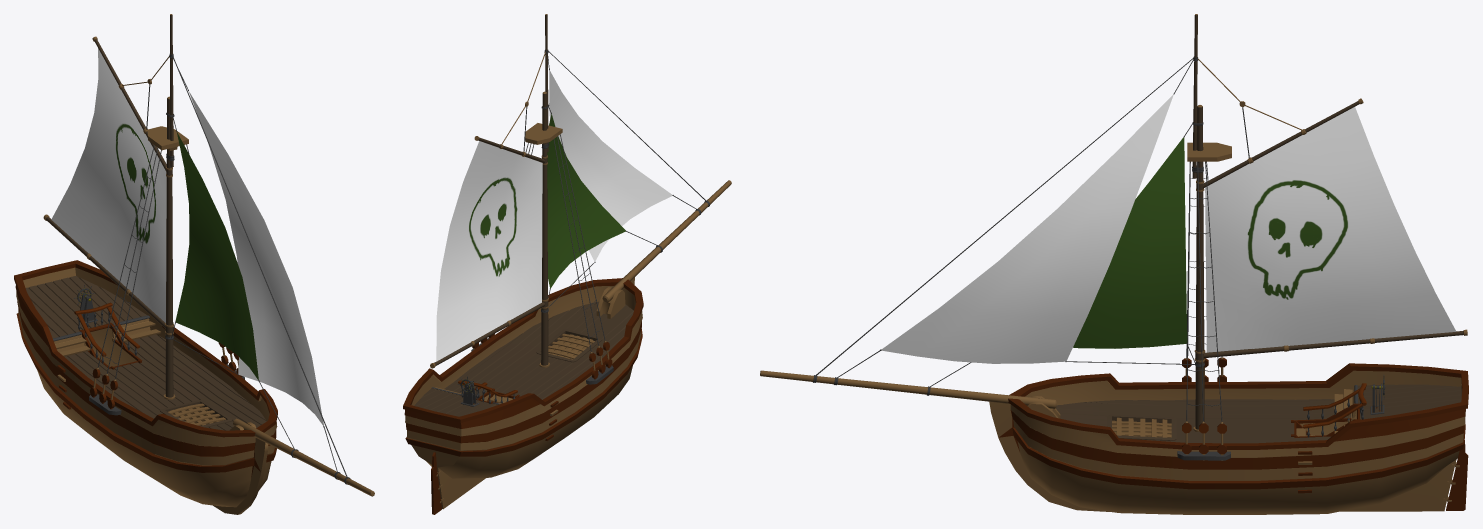
The model's file is Ship_Player.fbx.
3 views of the same model, side by side, from view 1: azimuth 30°, elevation 25°; view 2: azimuth 150°, elevation 25°; view 3: azimuth 270°, elevation 25° (orthographic). The views are drawn at different scales.
Parts seen in each view (by area): view 1: sails, Main hull, Decks; view 2: sails, Main hull, Decks; view 3: sails, Main hull, Decks.
Part boxes in pixels (x1,y1,x2,y2): sails: (51, 48, 323, 425); Main hull: (14, 14, 374, 514); Decks: (25, 276, 266, 430); sails: (436, 70, 672, 361); Main hull: (403, 14, 731, 514); Decks: (414, 301, 633, 416); sails: (881, 94, 1456, 363); Main hull: (760, 14, 1468, 514); Decks: (1056, 384, 1461, 443).
Bounding box in the file's own units: 553 × 1764 × 2280.
